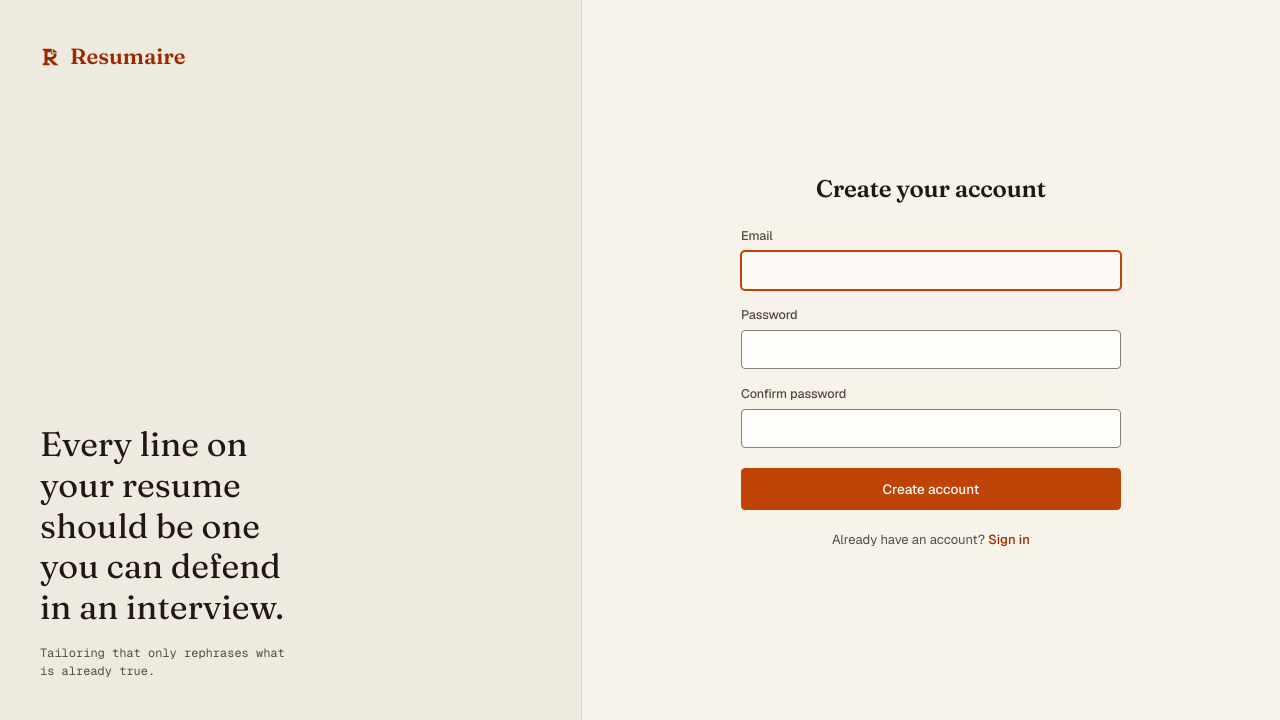
Test: App auth flows › registers, signs in, stores the token, and shows the dashboard
Type "new@example.test" into the field labelled "Email" at (931, 271), box [741,251,1121,290]
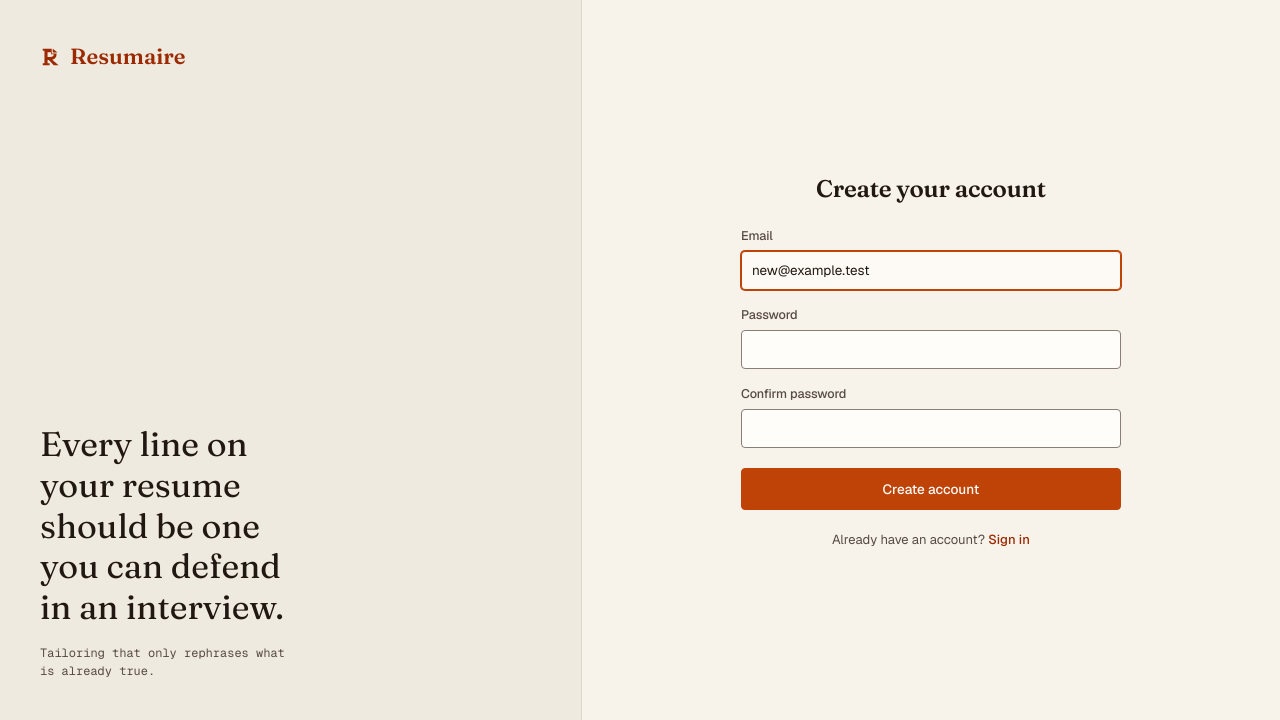
Type "long-password" into the password field labelled "Password" at (931, 350), box [741,330,1121,369]
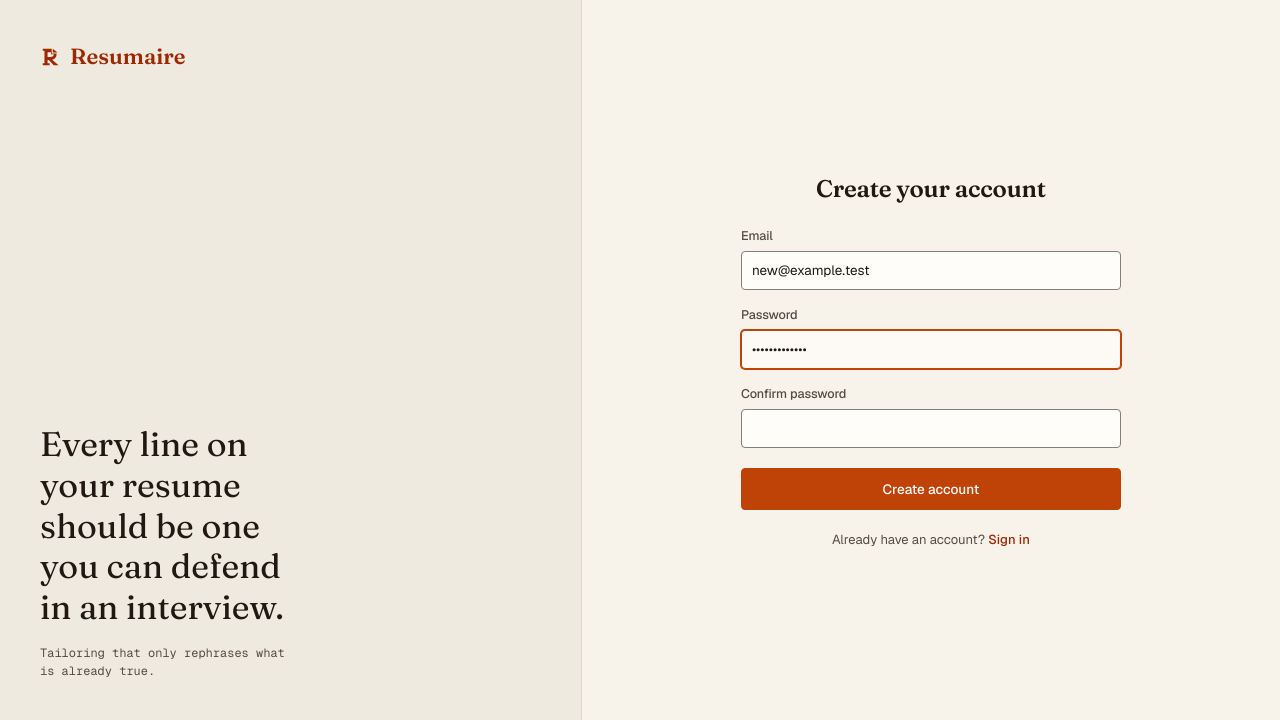
Type "long-password" into the password field labelled "Confirm password" at (931, 429), box [741,409,1121,448]
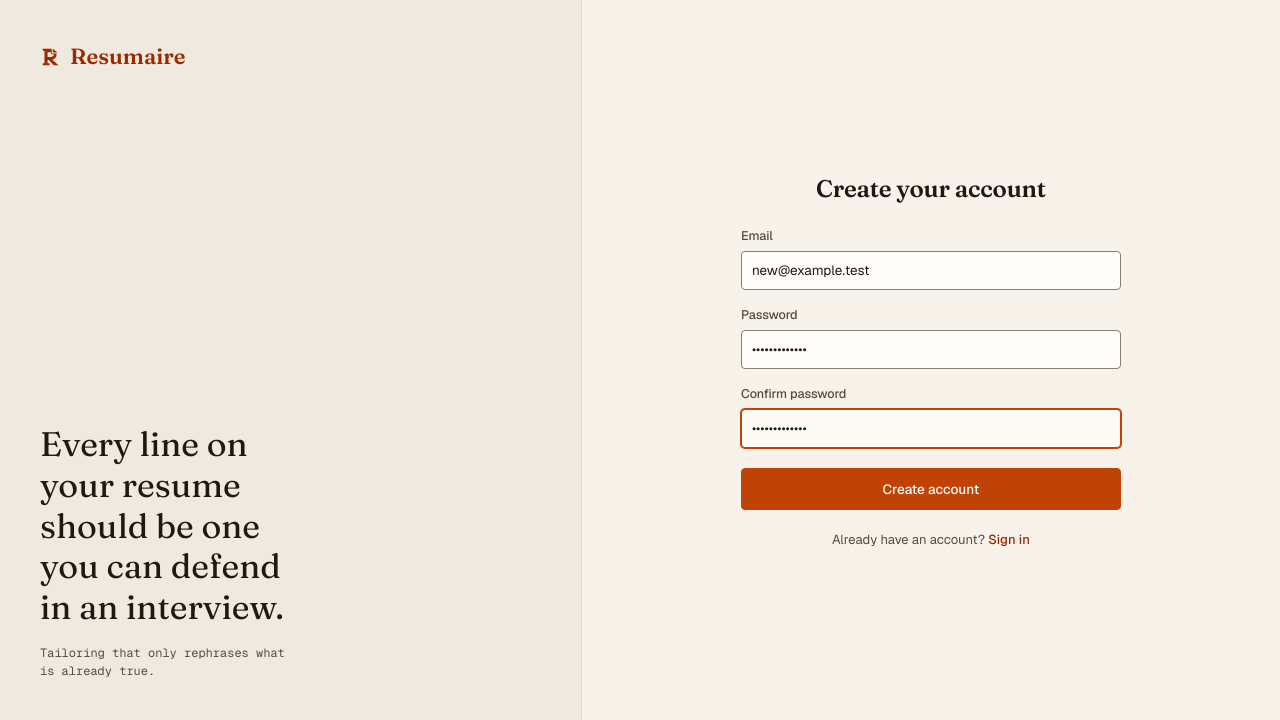
Click the button "Create account" at (931, 489), box [741,468,1121,510]
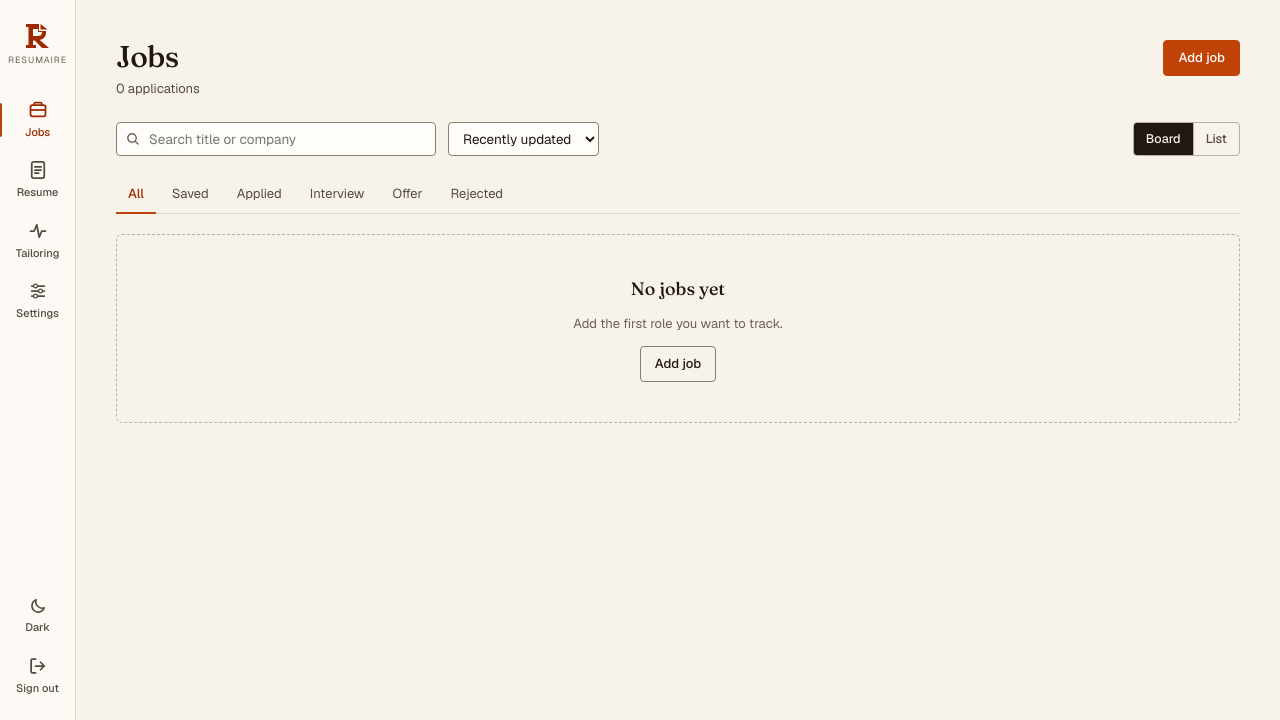
Expected: the heading "Jobs" is shown, [116,38,178,75]
